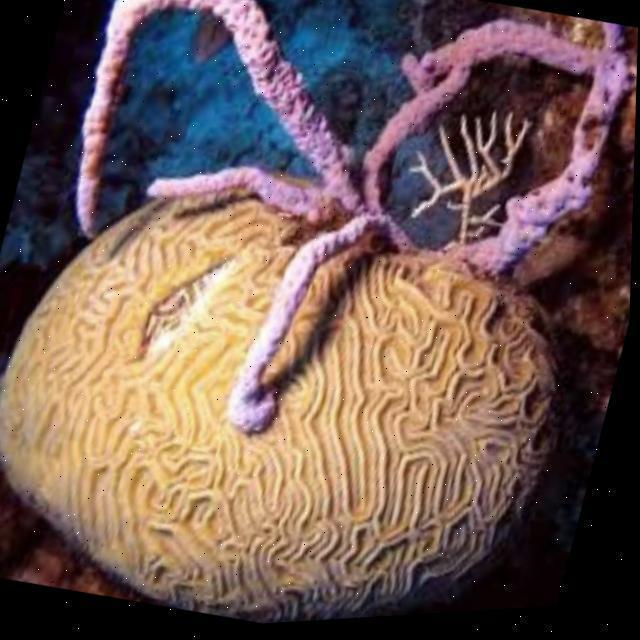Healthy Coral: (0, 65, 629, 640)
